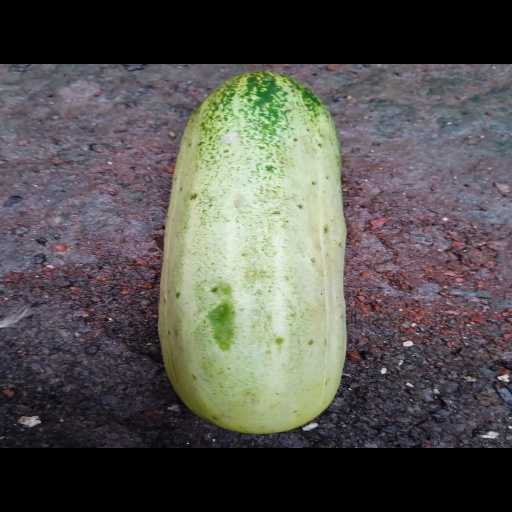concombre: (157, 69, 347, 435)
